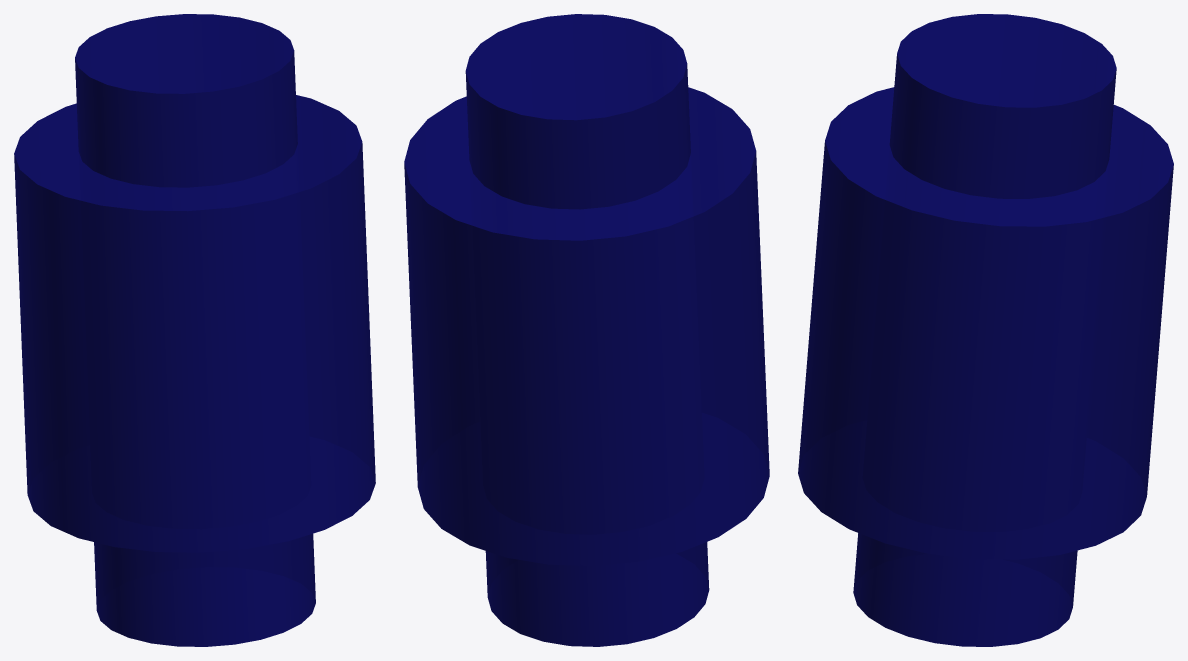
Rendered from original-13.obj.
3 views of the same model, side by side, from view 1: azimuth 30°, elevation 25°; view 2: azimuth 150°, elevation 25°; view 3: azimuth 270°, elevation 25° (orthographic).
Parts seen in each view (by area): view 1: mesh93/mesh93-geometry#mesh93-geometry; view 2: mesh93/mesh93-geometry#mesh93-geometry; view 3: mesh93/mesh93-geometry#mesh93-geometry.
Boxes of the visible parts, box(x1,y1,x2,y2) form: mesh93/mesh93-geometry#mesh93-geometry: box(14, 14, 375, 646); mesh93/mesh93-geometry#mesh93-geometry: box(404, 14, 769, 646); mesh93/mesh93-geometry#mesh93-geometry: box(798, 14, 1173, 646).
Size of the model in its own units: 0.0196 by 0.0343 by 0.0211.
